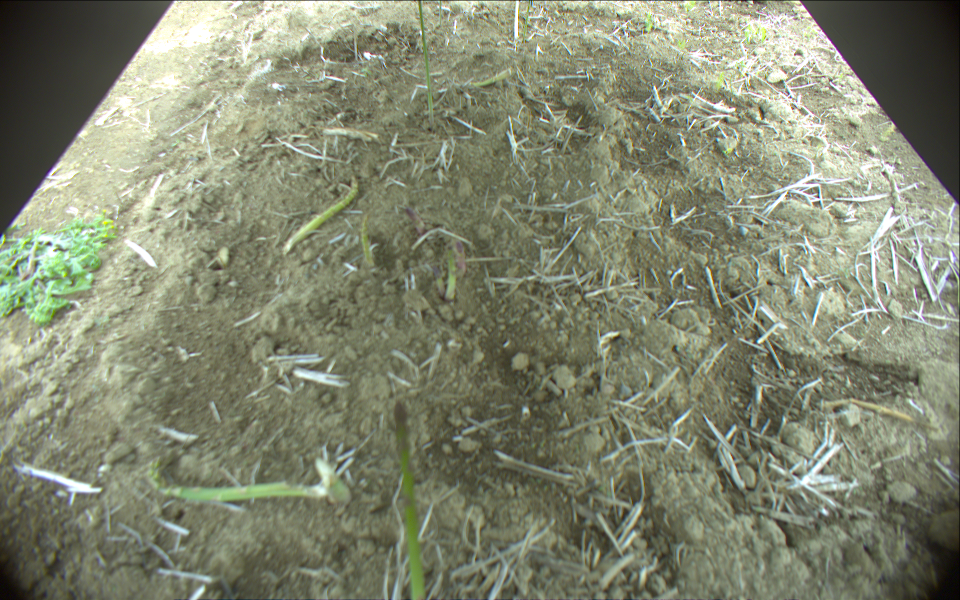aspa: (146, 451, 348, 505), (394, 400, 430, 600), (283, 176, 357, 255), (414, 1, 433, 126), (456, 64, 507, 90), (444, 246, 458, 305)
